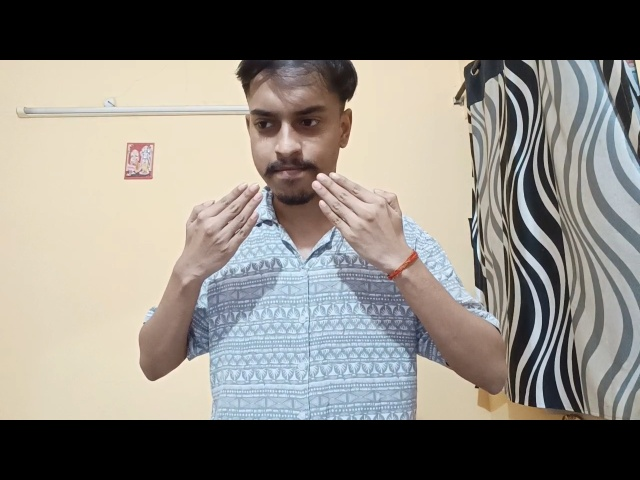Thank you: (156, 153, 447, 348)
